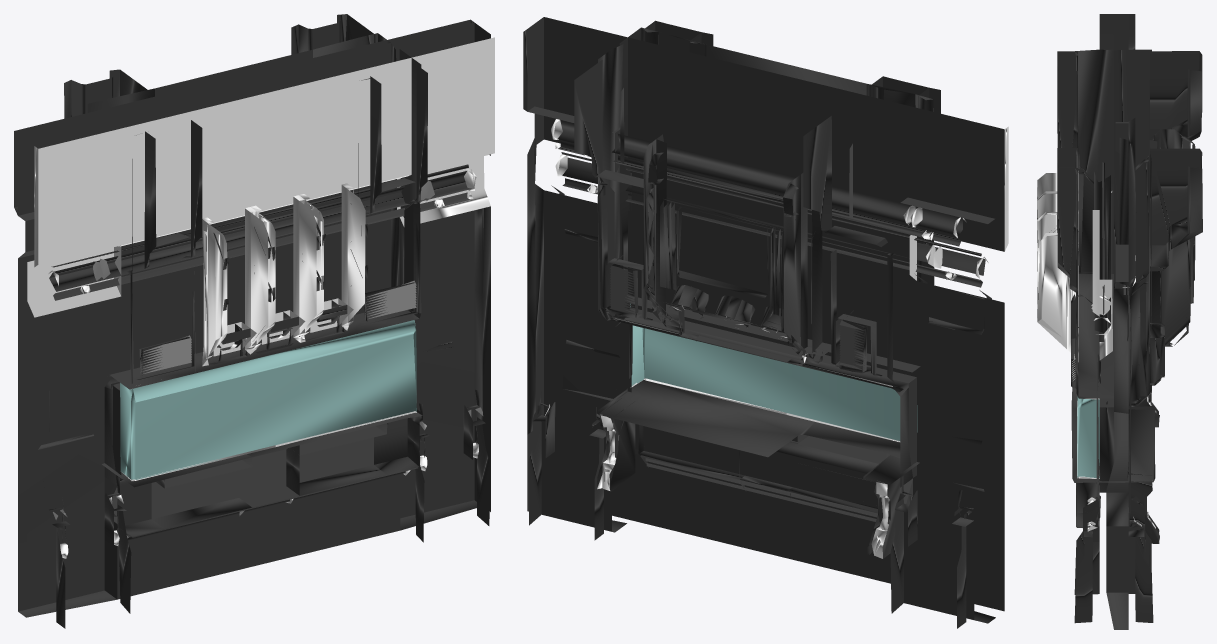
The model's file is Custom_wall_officecounter_8x8_int_01.glb.
The picture shows the model from 3 angles, left to right: view 1: azimuth 30°, elevation 25°; view 2: azimuth 150°, elevation 25°; view 3: azimuth 270°, elevation 25°; orthographic projection. The views are drawn at different scales.
Size of the model in its own units: 8.02 by 8.01 by 2.86.
